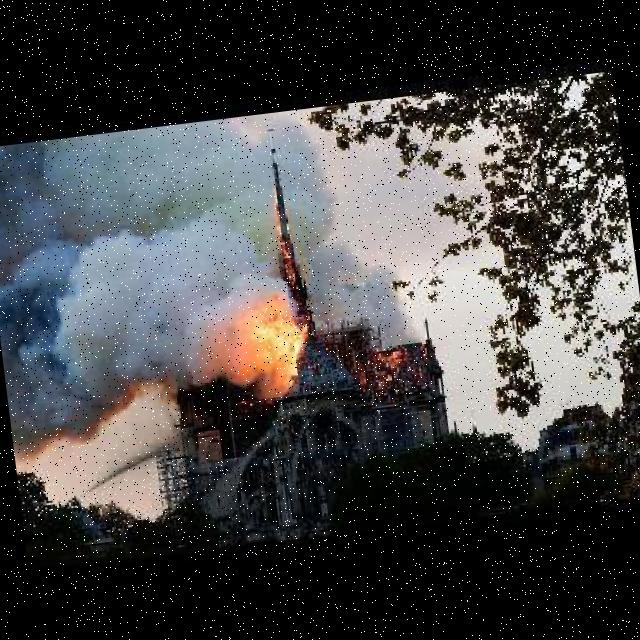fire: (203, 281, 300, 404)
